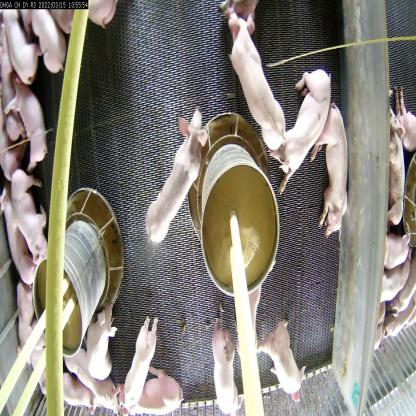Pig: (143, 99, 209, 249), (260, 60, 328, 185), (224, 21, 290, 144), (311, 94, 352, 240), (256, 313, 299, 402), (10, 164, 50, 249), (119, 325, 159, 404), (10, 68, 42, 164), (213, 323, 243, 412), (127, 369, 181, 416), (6, 8, 38, 87)
